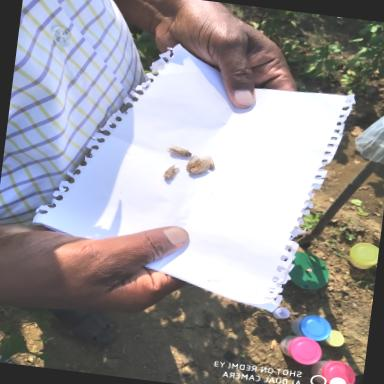abw: (186, 156, 210, 177), (165, 142, 193, 158), (162, 162, 181, 182), (183, 152, 201, 172), (200, 152, 216, 170)
